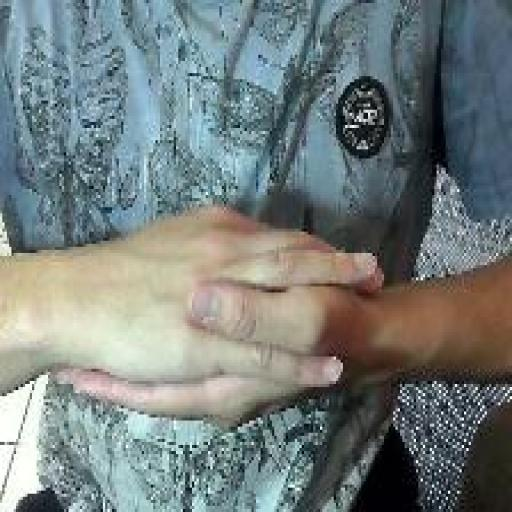Saru -monkey-: (47, 200, 387, 437)
